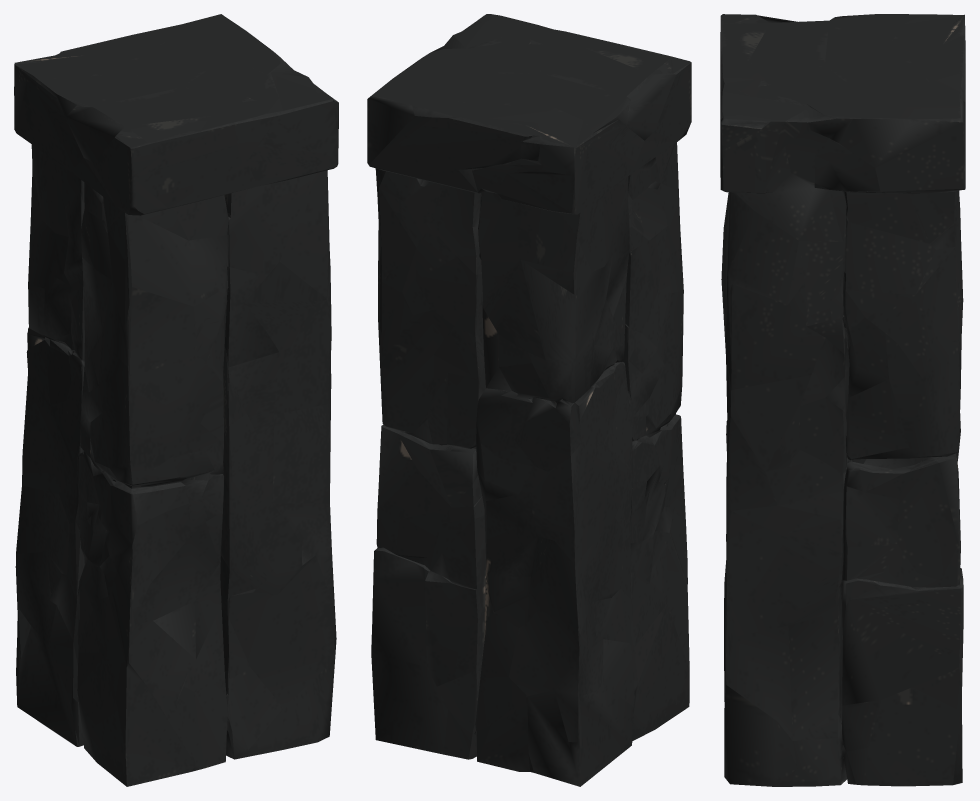
File: cover_full_caves_v1.glb
3 views of the same model, side by side, from view 1: azimuth 30°, elevation 25°; view 2: azimuth 150°, elevation 25°; view 3: azimuth 270°, elevation 25° (orthographic). The views are drawn at different scales.
Size of the model in its own units: 0.6452 by 1.85 by 0.6154.
Materials: 1 (1 with a texture image).
